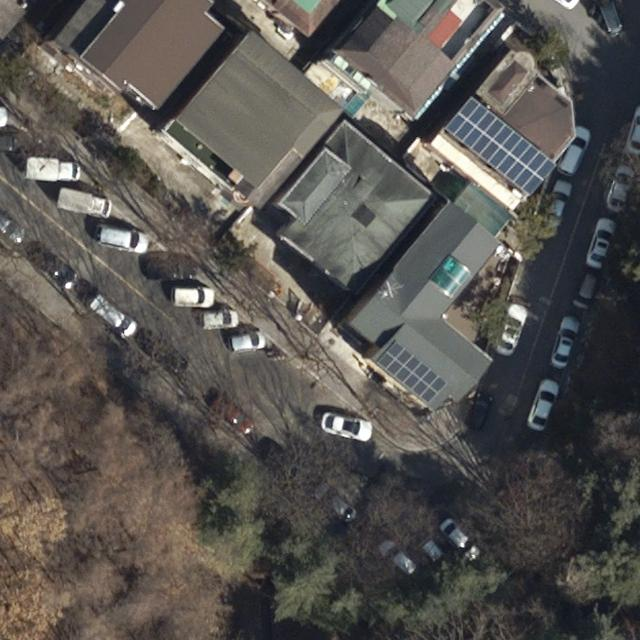panel: (441, 95, 558, 199), (374, 342, 448, 409)
